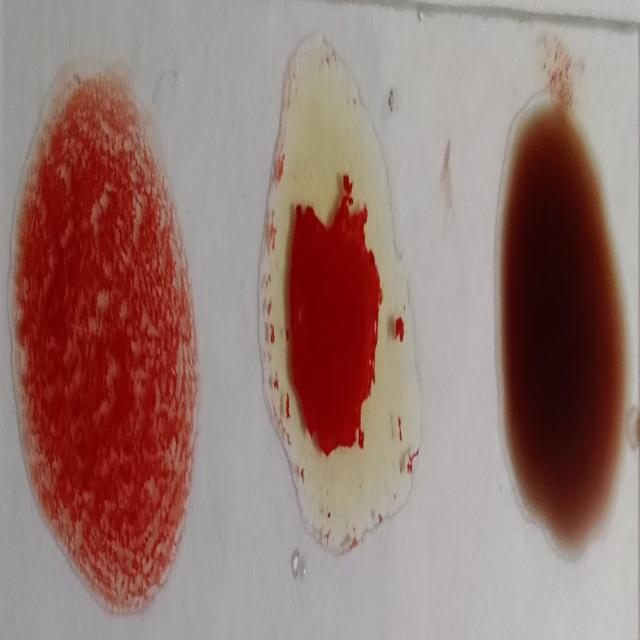B: (259, 40, 420, 567)
D: (10, 60, 199, 624)
